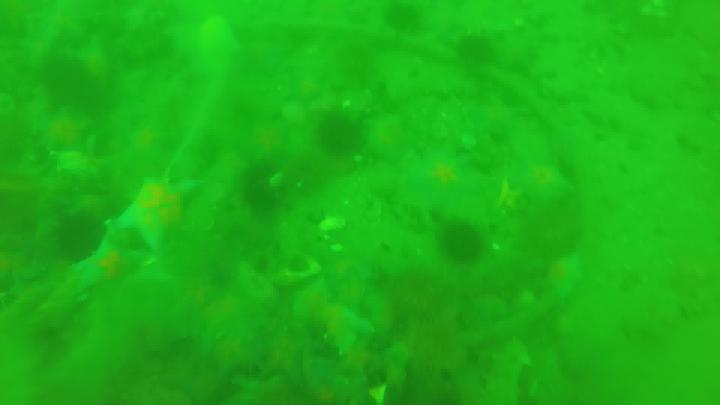echinus: (126, 175, 199, 257), (321, 307, 376, 353), (42, 58, 87, 106), (57, 212, 99, 261), (316, 117, 363, 157), (240, 166, 281, 211), (438, 223, 481, 261), (381, 5, 426, 37), (452, 38, 495, 62)
scallop: (279, 257, 322, 281)
